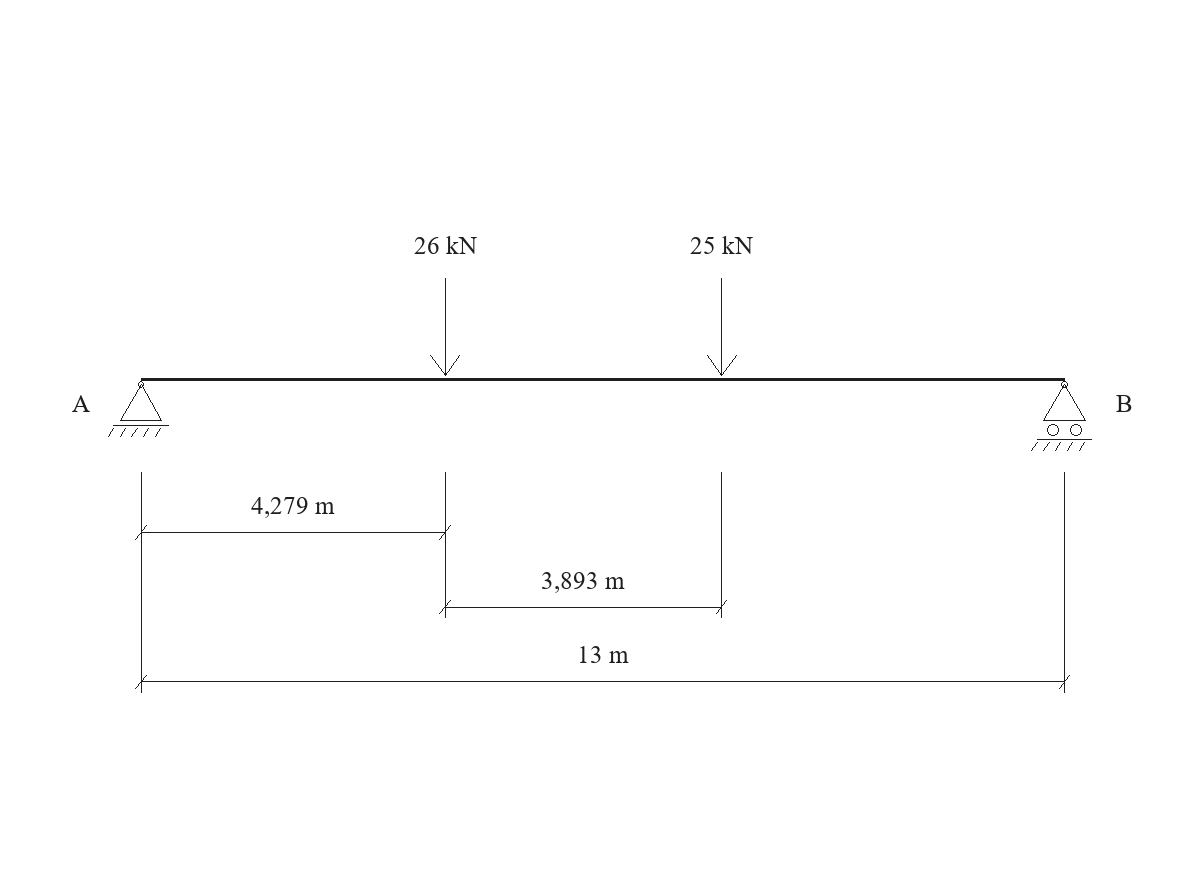pin_support: (108, 381, 169, 437)
point_load: (430, 278, 460, 376), (707, 278, 737, 376)
roller_support: (1031, 381, 1092, 451)
